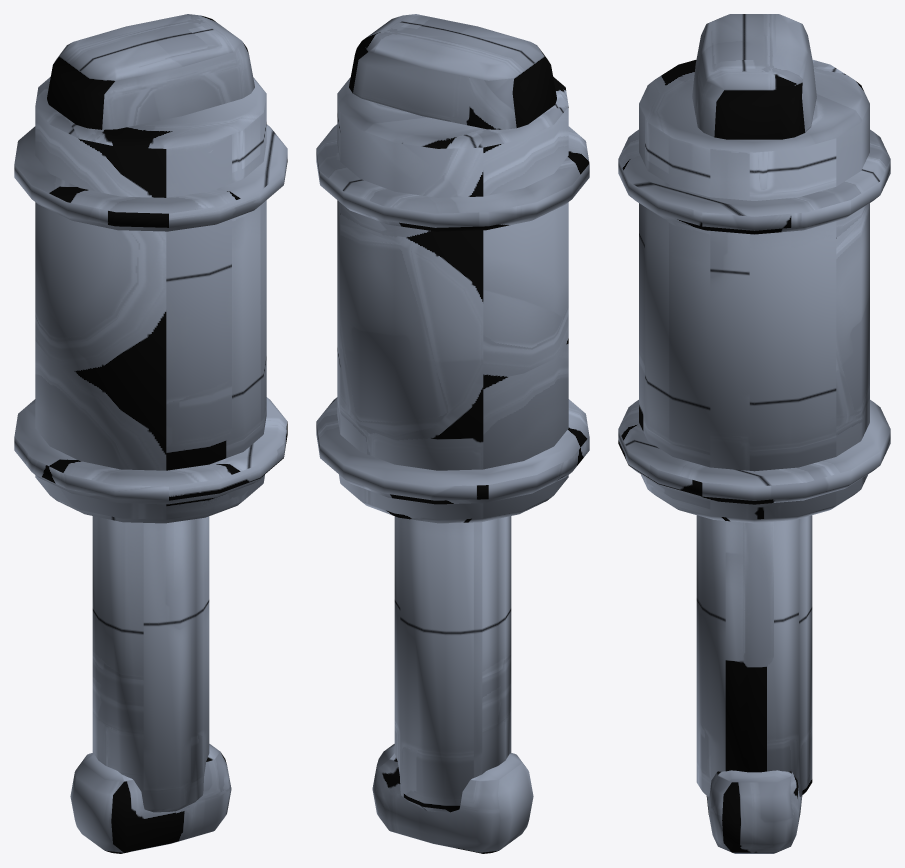
Rendered from Remache_PistonBrazoIzq.fbx.
3 views of the same model, side by side, from view 1: azimuth 30°, elevation 25°; view 2: azimuth 150°, elevation 25°; view 3: azimuth 270°, elevation 25° (orthographic).
Parts seen in each view (by area): view 1: Remache_PistonBrazoIzq; view 2: Remache_PistonBrazoIzq; view 3: Remache_PistonBrazoIzq.
Part boxes in pixels (left/top/right/bottom): Remache_PistonBrazoIzq: left=14, top=14, right=287, bottom=853; Remache_PistonBrazoIzq: left=316, top=14, right=589, bottom=853; Remache_PistonBrazoIzq: left=618, top=14, right=890, bottom=853.
Size of the model in its own units: 0.6321 by 2.03 by 0.6321.
